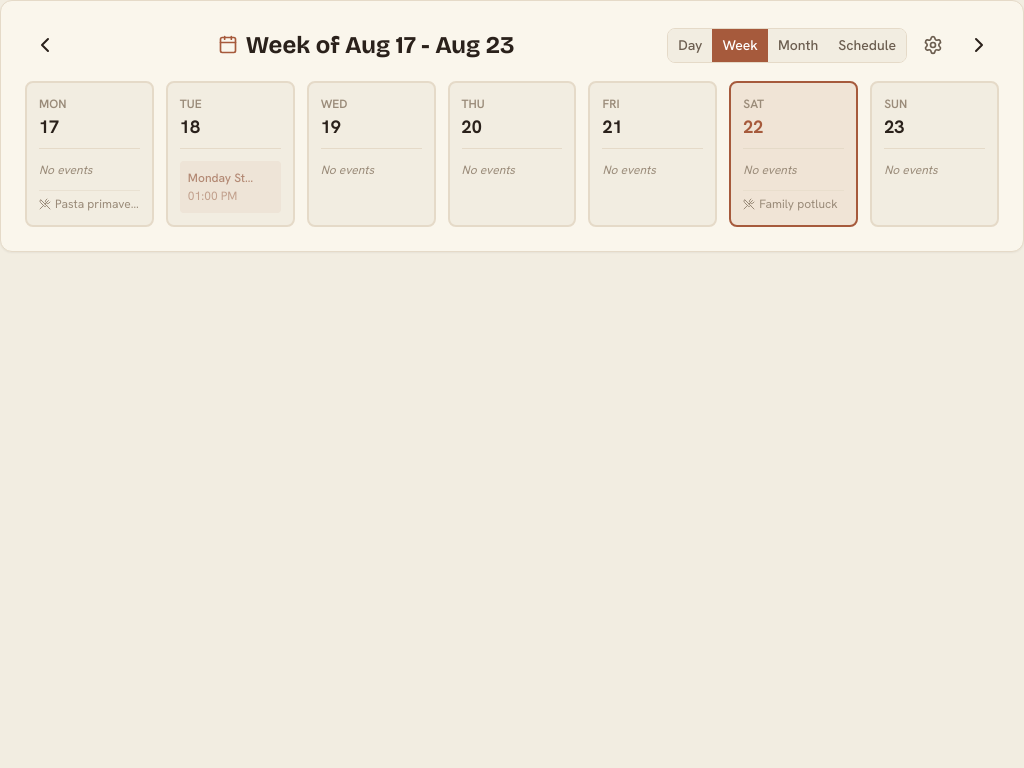
Test: WeekCalendar — interactions › past events › keeps a past event fully interactive (modal opens on click)
Click the text "Monday Standup": [222, 178] box [188, 169, 257, 187]
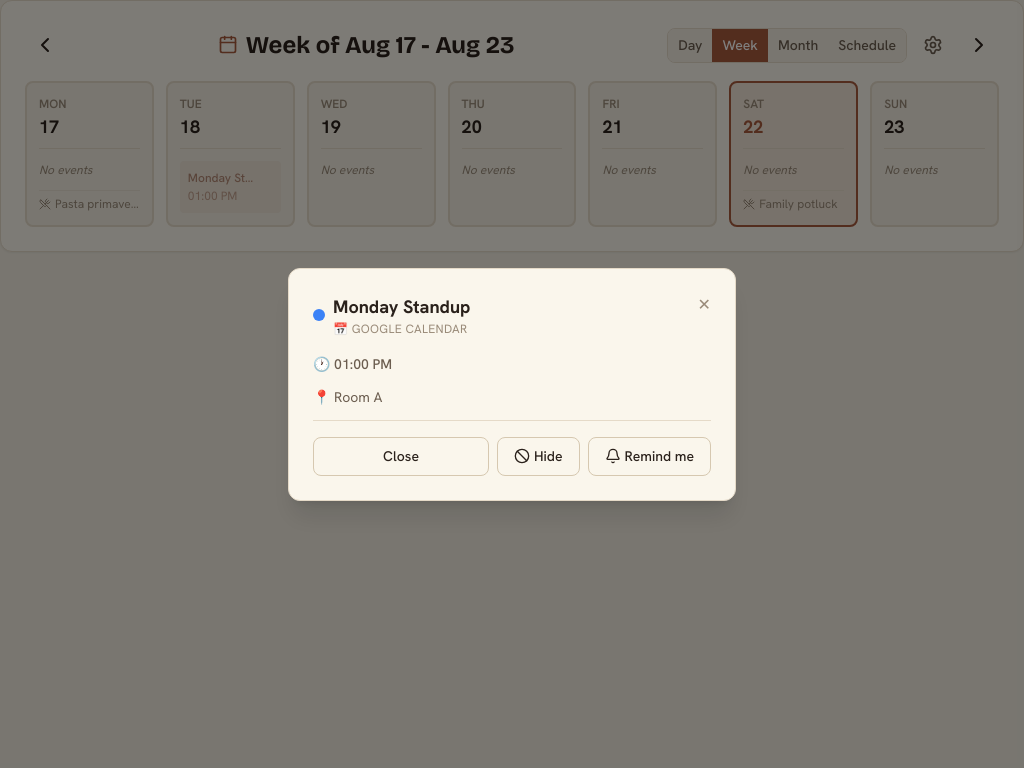
Expected: the text "📍 Room A" is shown, [313, 388, 382, 406]
